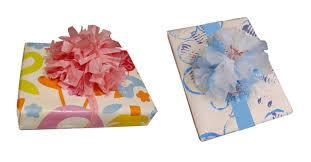Postal packaging: (164, 17, 304, 146), (14, 18, 159, 134)
